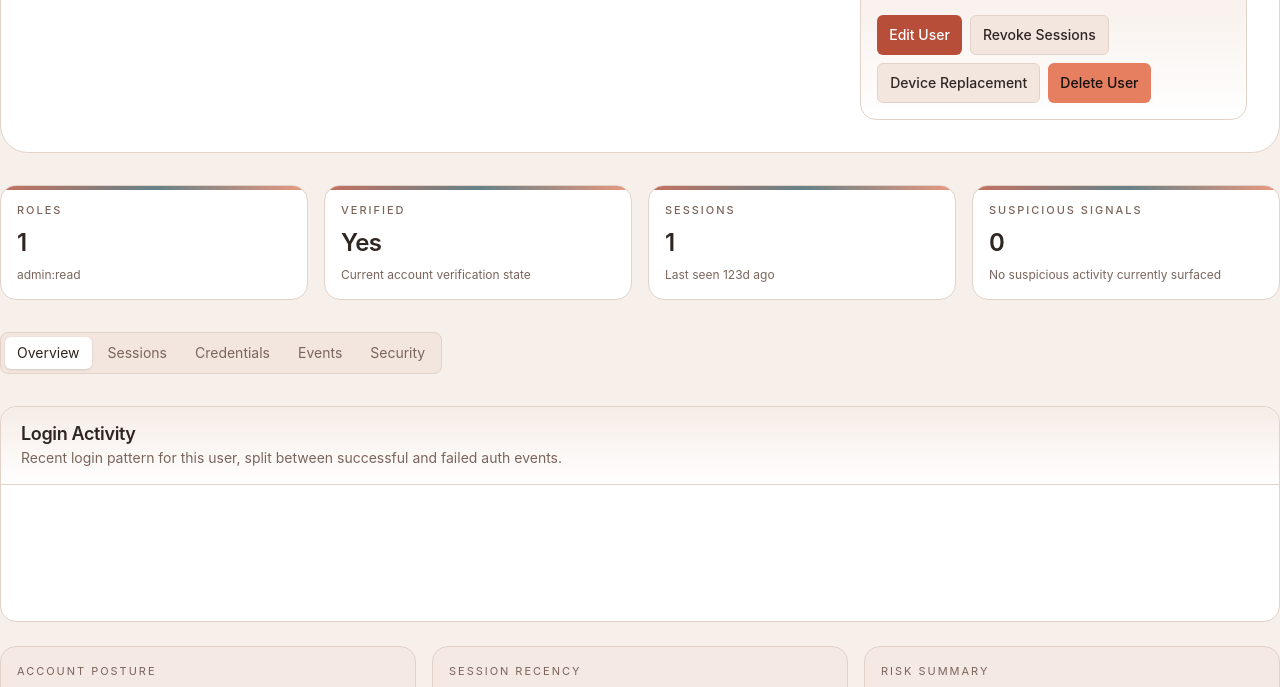
Scenario: UserDetail › credential inventory › leads with the friendly name and keeps the device type beneath it
(page scrolled)
Click the tab "Credentials": (232, 352) [183,336,282,368]
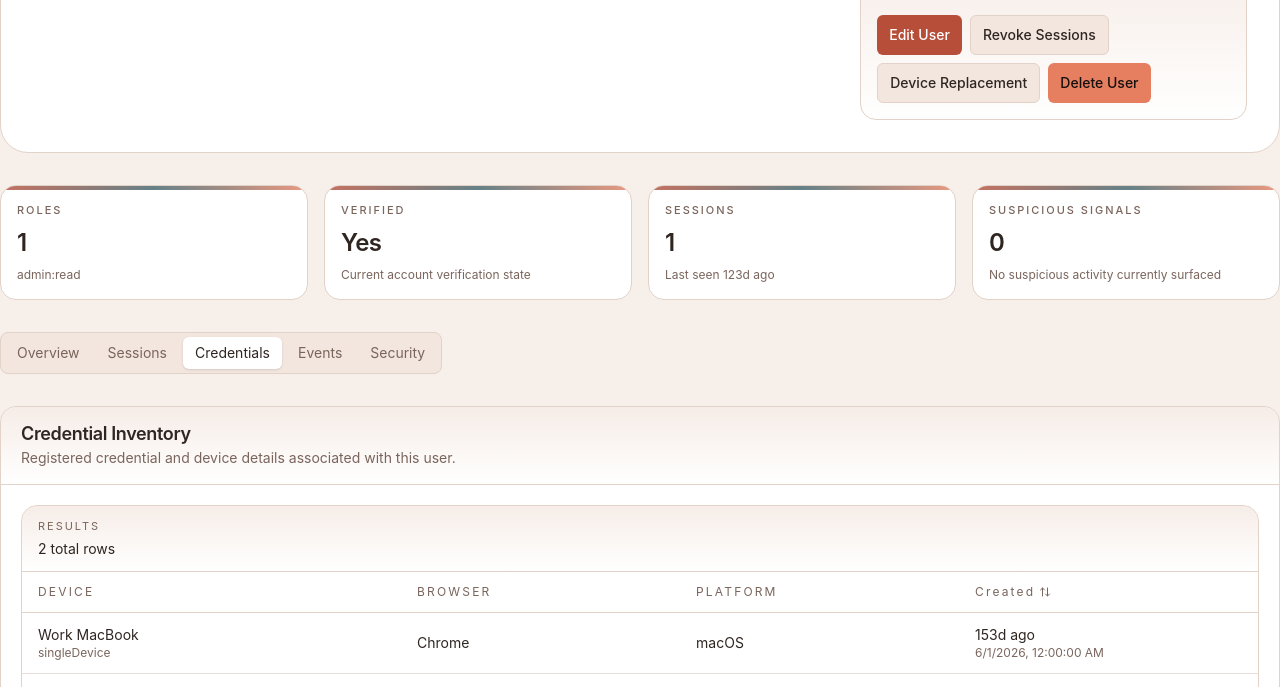
Now the cell "Work MacBook singleDevice" is shown, box [38,626,139,660]
Now the text "singleDevice" is shown, box [38,645,110,660]
